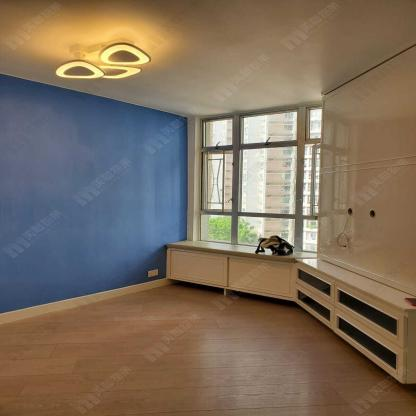Cupboard: (163, 239, 416, 388)
